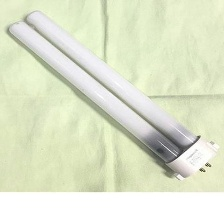light_bulb: (6, 17, 189, 170), (21, 7, 201, 151)
